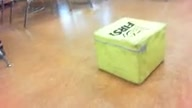cube: (93, 16, 168, 86)
